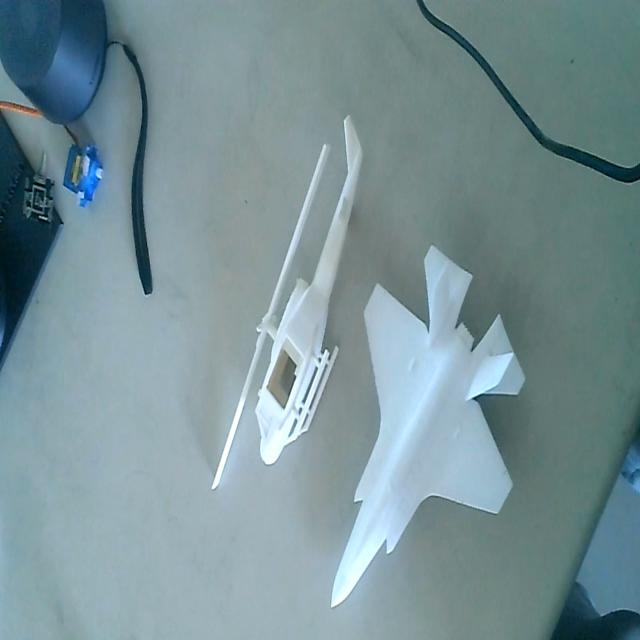Helicopter: (213, 110, 362, 493)
Jet: (332, 240, 524, 611)
